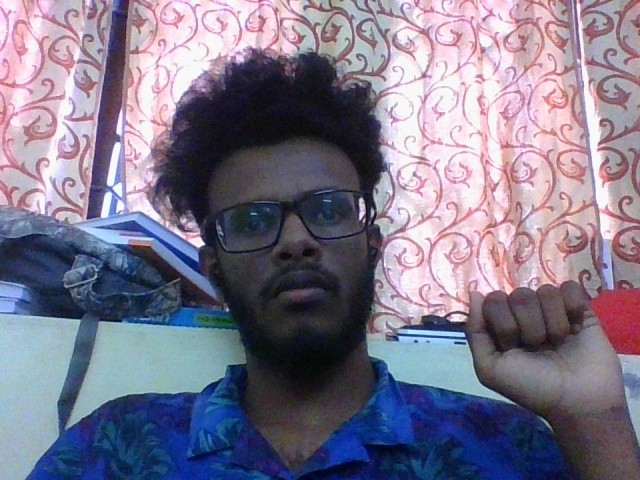yes: (444, 281, 640, 480)
